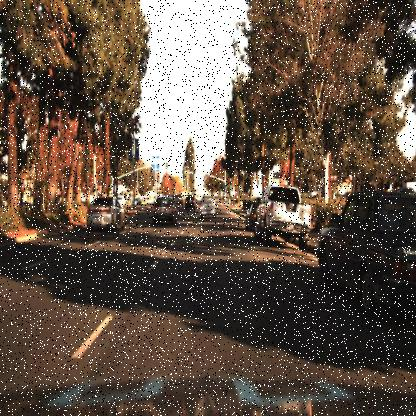car: (317, 188, 415, 321), (252, 181, 313, 244), (83, 194, 127, 235), (150, 192, 178, 226), (244, 199, 261, 232), (200, 196, 218, 218), (183, 192, 198, 213), (172, 190, 186, 210)
